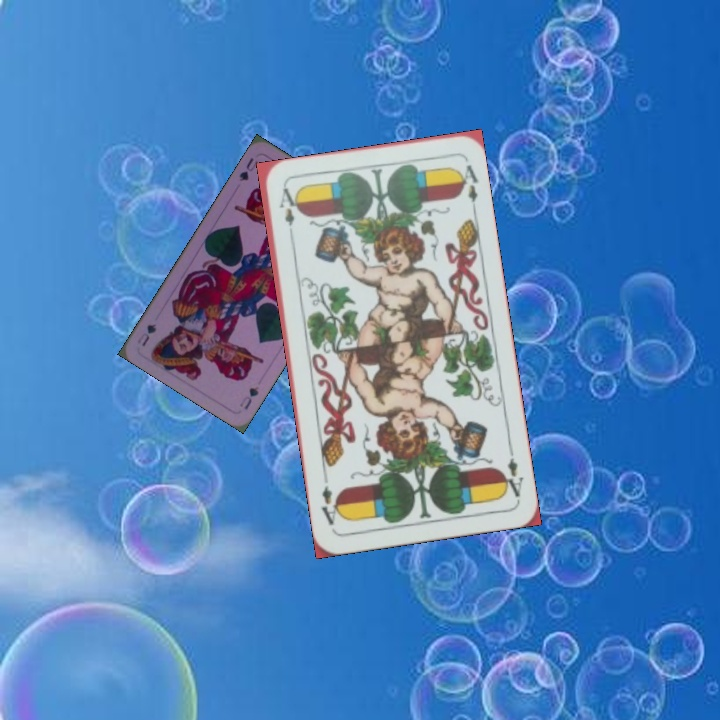EA: (498, 443, 526, 500), (274, 183, 297, 229)
GU: (235, 153, 261, 184), (235, 382, 261, 412)
